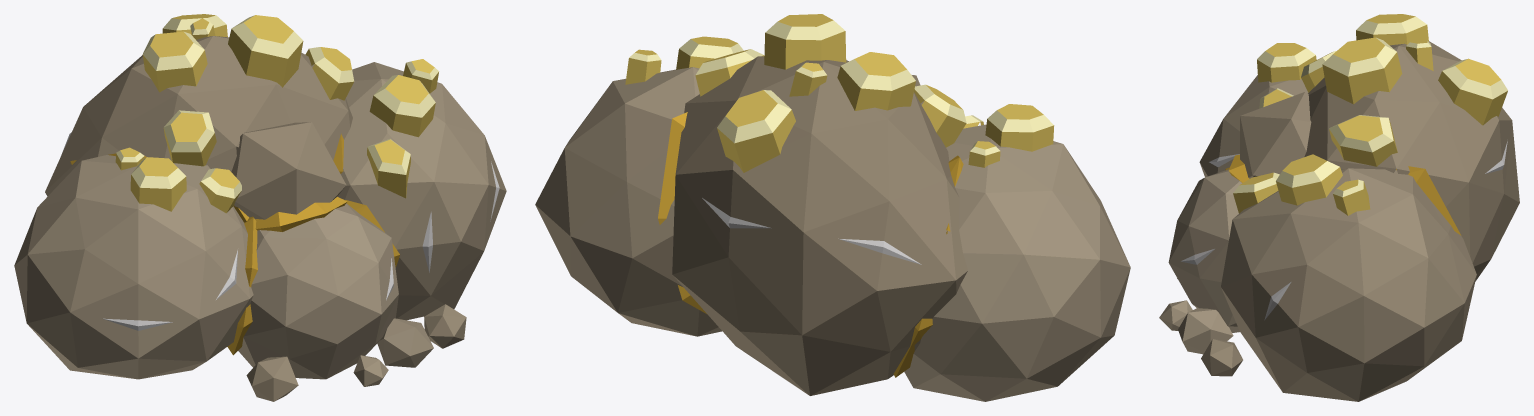
File: gold_ore_deposit.glb
3 views of the same model, side by side, from view 1: azimuth 30°, elevation 25°; view 2: azimuth 150°, elevation 25°; view 3: azimuth 270°, elevation 25° (orthographic). The views are drawn at different scales.
Visible parts, largest first — view 1: gold-ore-deposit-body, gold-nuggets; view 2: gold-ore-deposit-body, gold-nuggets; view 3: gold-ore-deposit-body, gold-nuggets.
Part boxes in pixels (<box>): gold-ore-deposit-body: <box>14,36,506,401</box>; gold-nuggets: <box>115,14,438,213</box>; gold-ore-deposit-body: <box>535,56,1130,401</box>; gold-nuggets: <box>625,14,1054,172</box>; gold-ore-deposit-body: <box>1159,41,1519,401</box>; gold-nuggets: <box>1233,14,1507,215</box>.
Bounding box in the file's own units: 1.63 × 0.9808 × 1.15.
